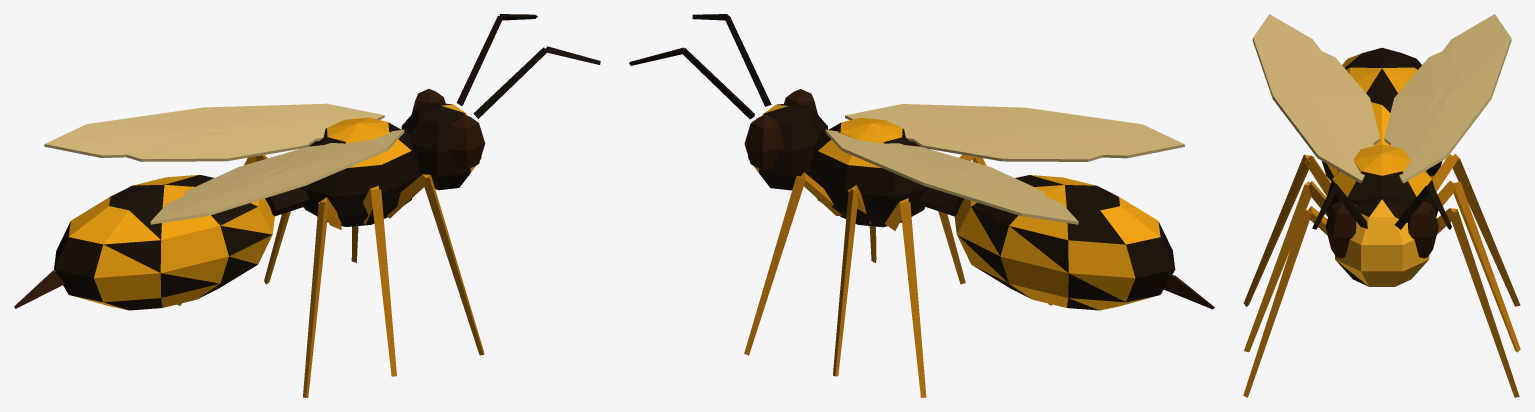
The model's file is wild-bosses-the-hornet-queen.glb.
3 views of the same model, side by side, from view 1: azimuth 30°, elevation 25°; view 2: azimuth 150°, elevation 25°; view 3: azimuth 270°, elevation 25° (orthographic). The views are drawn at different scales.
Bounding box in the file's own units: 10.03 × 4.38 × 4.09.
